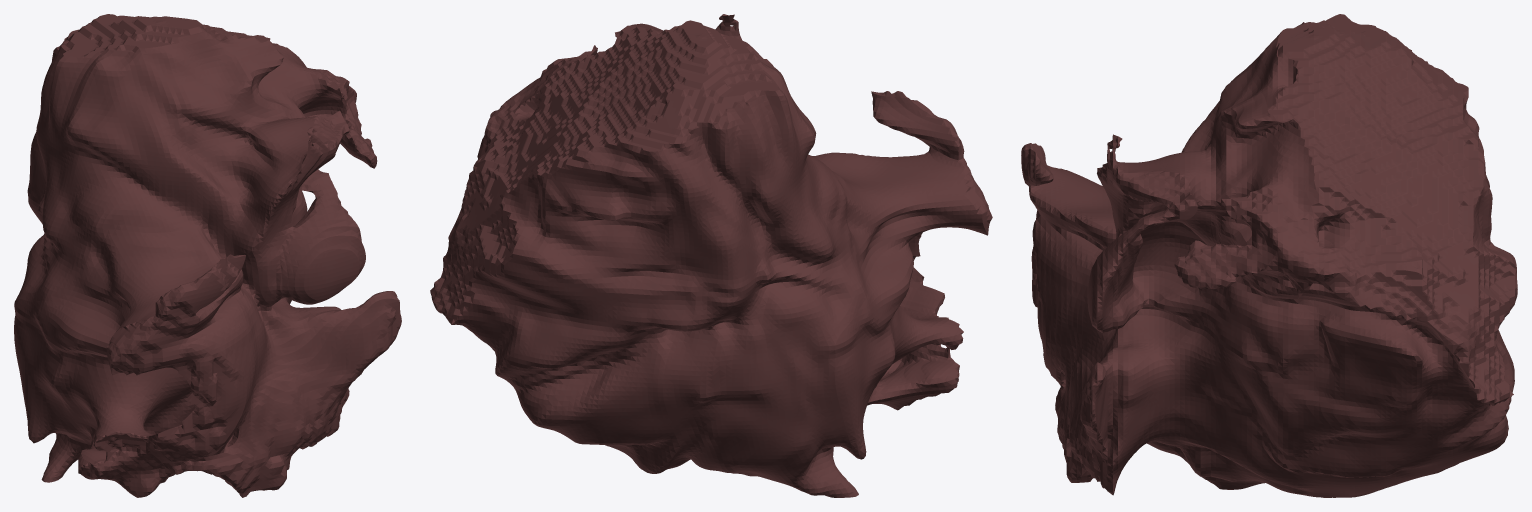
File: G292.0+1.8 Supernova Remnant.glb
3 renders of one model, left to right at view 1: azimuth 30°, elevation 25°; view 2: azimuth 150°, elevation 25°; view 3: azimuth 270°, elevation 25°, orthographic. The views are drawn at different scales.
Parts seen in each view (by area): view 1: G292_02052025; view 2: G292_02052025; view 3: G292_02052025.
Boxes of the visible parts, box(x1,y1,x2,y2) form: G292_02052025: box(14, 14, 401, 497); G292_02052025: box(430, 14, 992, 497); G292_02052025: box(1021, 14, 1517, 497).
Size of the model in its own units: 14.12 by 15.72 by 15.08.
